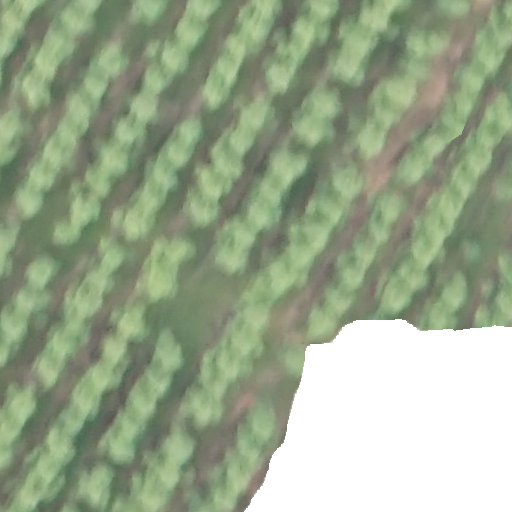eucalipto: (180, 381, 223, 428), (209, 136, 248, 183), (214, 337, 255, 381), (231, 6, 270, 52), (287, 114, 336, 150), (227, 320, 268, 363), (401, 22, 452, 56), (198, 346, 234, 394), (470, 26, 506, 73), (135, 266, 181, 301), (396, 141, 431, 187), (287, 218, 328, 257), (56, 3, 98, 41), (268, 147, 311, 184), (313, 183, 350, 226), (341, 23, 384, 59), (113, 207, 158, 241), (221, 446, 257, 488), (162, 428, 200, 466), (183, 193, 220, 232), (98, 427, 137, 464), (194, 161, 234, 197), (111, 306, 150, 342), (382, 71, 416, 112), (336, 246, 366, 292), (247, 194, 284, 231), (68, 191, 104, 229), (131, 181, 169, 217), (151, 335, 186, 374), (367, 97, 407, 131), (305, 303, 339, 343), (237, 96, 273, 133), (397, 257, 435, 292), (21, 72, 55, 111), (42, 426, 76, 465), (72, 377, 104, 418), (215, 242, 251, 278), (10, 182, 45, 219), (329, 56, 367, 90), (108, 411, 148, 443), (97, 142, 133, 177), (397, 49, 432, 85), (378, 281, 414, 316), (49, 217, 86, 251), (94, 334, 131, 368), (246, 402, 279, 440), (411, 223, 444, 261), (52, 320, 91, 352), (13, 286, 53, 317), (267, 259, 302, 294), (447, 162, 482, 197), (221, 216, 257, 250), (426, 191, 465, 222), (127, 91, 161, 126), (25, 255, 59, 290), (284, 23, 320, 56), (278, 243, 314, 276), (142, 360, 174, 397), (127, 379, 159, 416), (329, 168, 367, 199), (440, 274, 471, 312), (43, 133, 77, 167), (453, 61, 486, 96), (172, 17, 208, 49), (351, 223, 383, 259), (44, 27, 81, 58), (355, 121, 386, 158), (1, 305, 31, 343), (158, 42, 191, 76), (88, 360, 122, 393), (234, 423, 269, 455), (422, 301, 458, 332), (154, 154, 184, 191), (226, 124, 259, 157), (142, 62, 176, 94), (6, 387, 40, 419), (33, 47, 64, 82), (260, 60, 295, 91), (306, 89, 342, 119), (240, 299, 271, 333), (484, 94, 512, 131), (32, 355, 62, 389), (94, 48, 129, 77), (83, 164, 114, 196), (165, 135, 196, 167), (165, 236, 196, 268), (29, 160, 59, 193), (210, 57, 243, 87), (375, 190, 405, 223), (464, 142, 494, 175), (366, 211, 397, 242), (327, 284, 358, 315), (202, 77, 232, 109), (129, 1, 170, 24), (74, 286, 104, 317), (116, 118, 149, 146), (1, 114, 27, 149), (82, 71, 112, 101), (446, 91, 474, 123), (66, 101, 91, 136), (248, 1, 285, 24), (97, 246, 126, 275), (476, 119, 505, 148), (301, 1, 342, 21), (56, 407, 84, 436), (221, 33, 248, 61), (175, 118, 204, 144), (184, 1, 223, 20), (86, 270, 115, 295), (421, 129, 446, 157)
